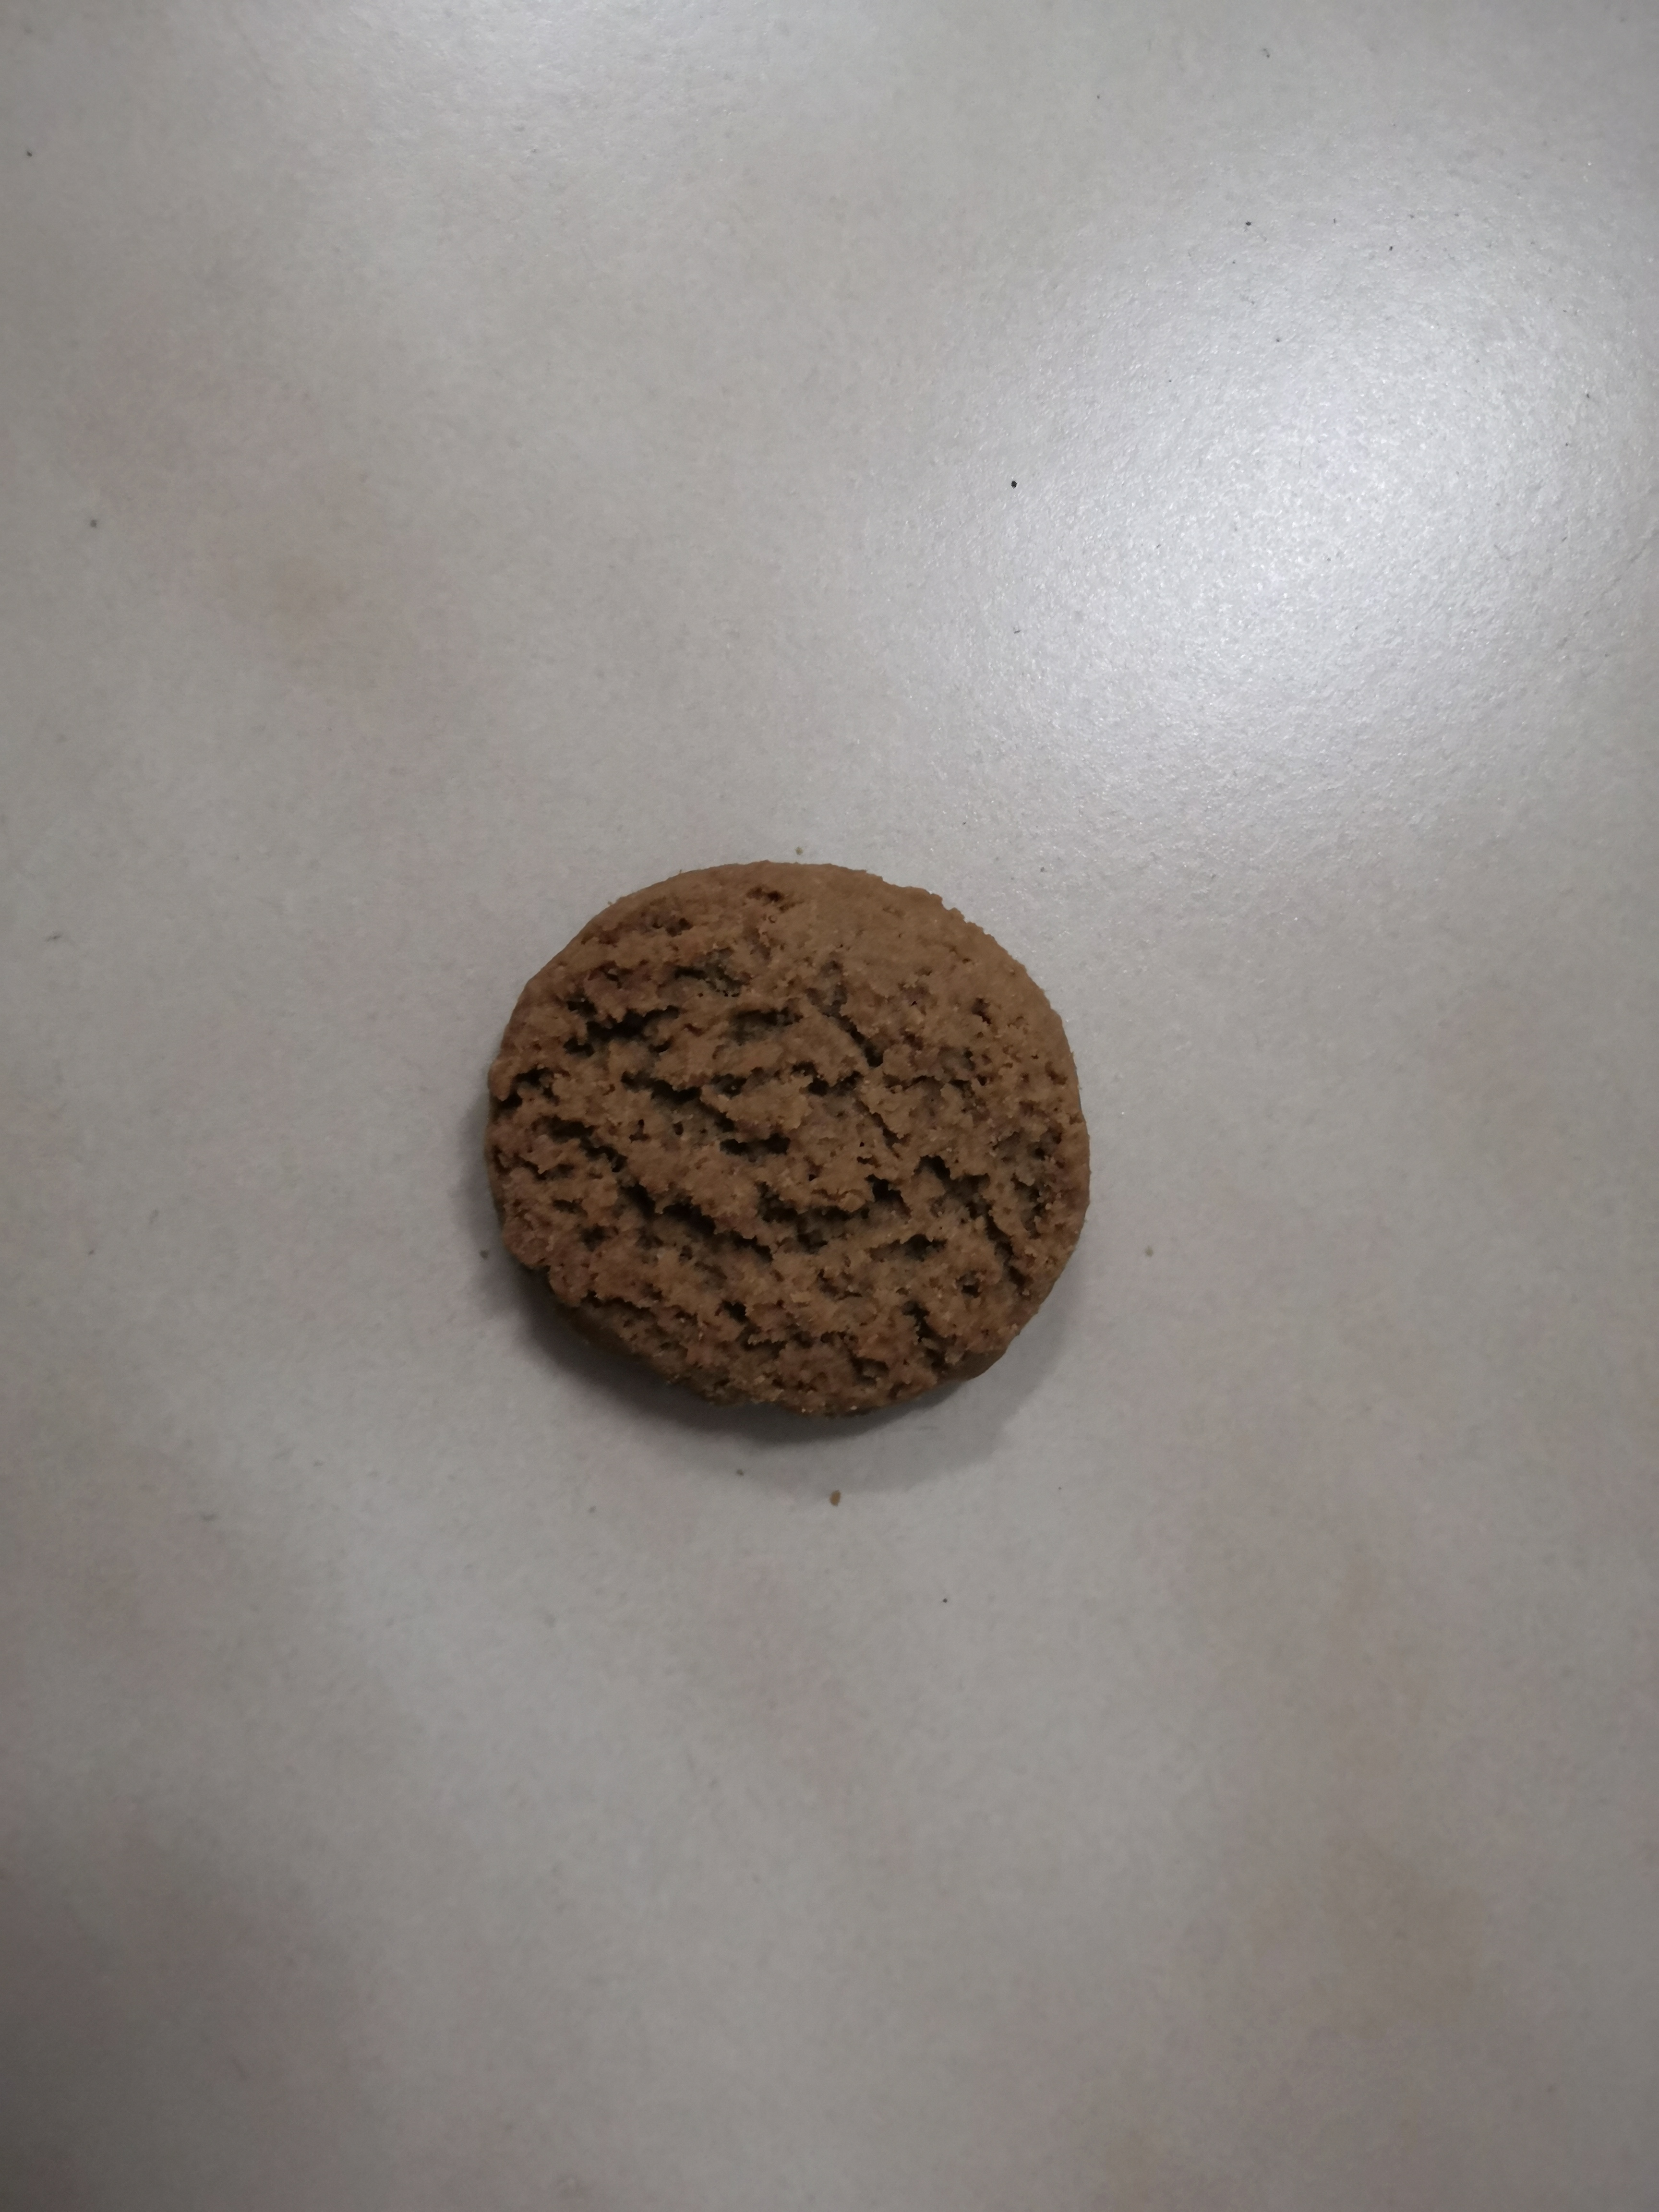Cookie3: (486, 860, 1091, 1418)
